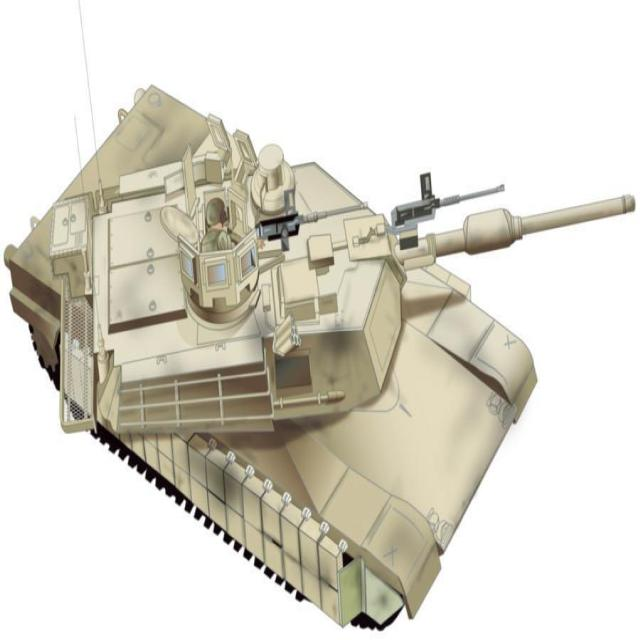Tanks: (9, 50, 582, 614)
